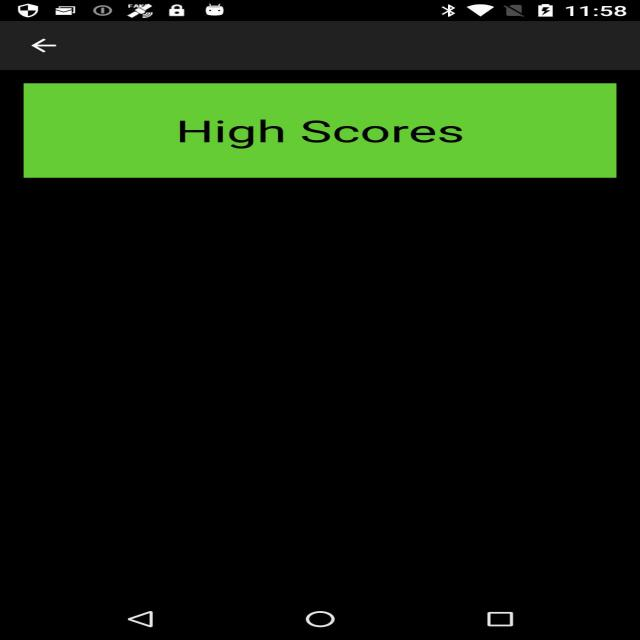button: (20, 34, 78, 59)
text: (25, 86, 616, 180)
